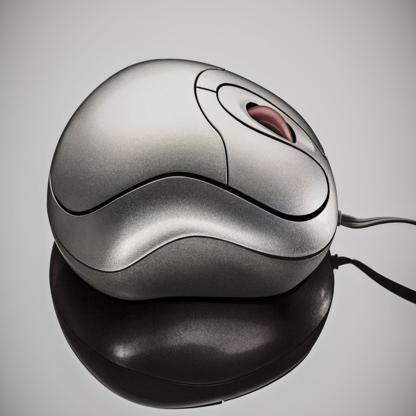not trash: (38, 53, 344, 298)
